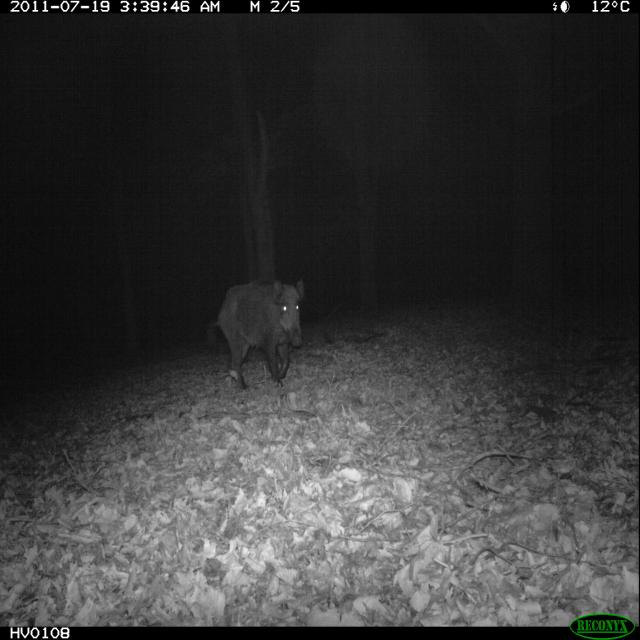boar: (181, 254, 319, 418)
